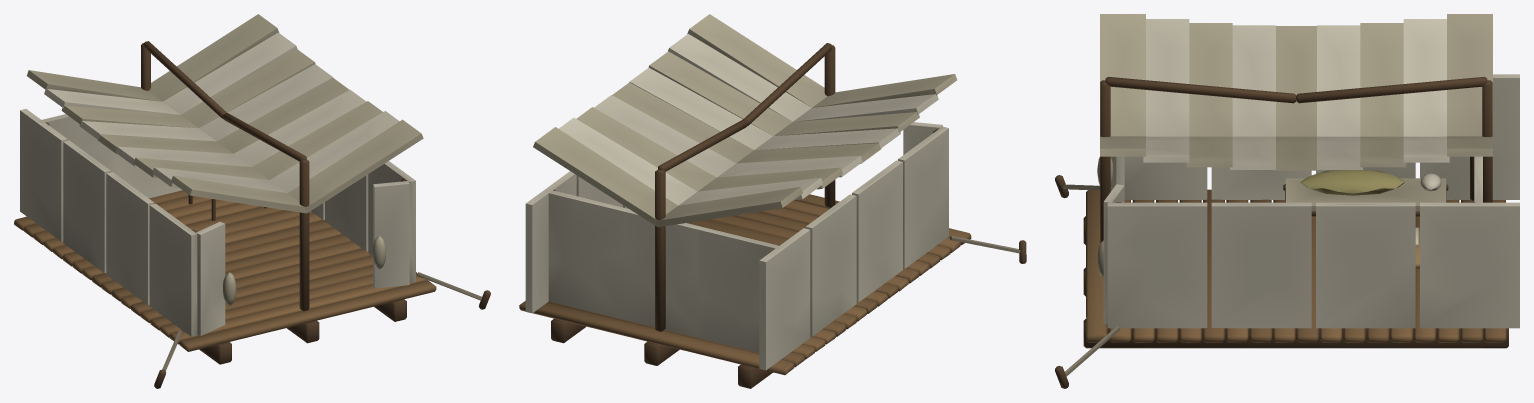
The model's file is survey_tent_a_lod1.glb.
3 renders of one model, left to right at view 1: azimuth 30°, elevation 25°; view 2: azimuth 150°, elevation 25°; view 3: azimuth 270°, elevation 25°, orthographic. The views are drawn at different scales.
Parts seen in each view (by area): view 1: Surface.001; view 2: Surface.001; view 3: Surface.001.
Part boxes in pixels (x1=…): Surface.001: x1=14, y1=14, x2=490, y2=388; Surface.001: x1=519, y1=14, x2=1026, y2=388; Surface.001: x1=1055, y1=14, x2=1519, y2=388.
Size of the model in its own units: 8.02 by 4.12 by 8.03.
